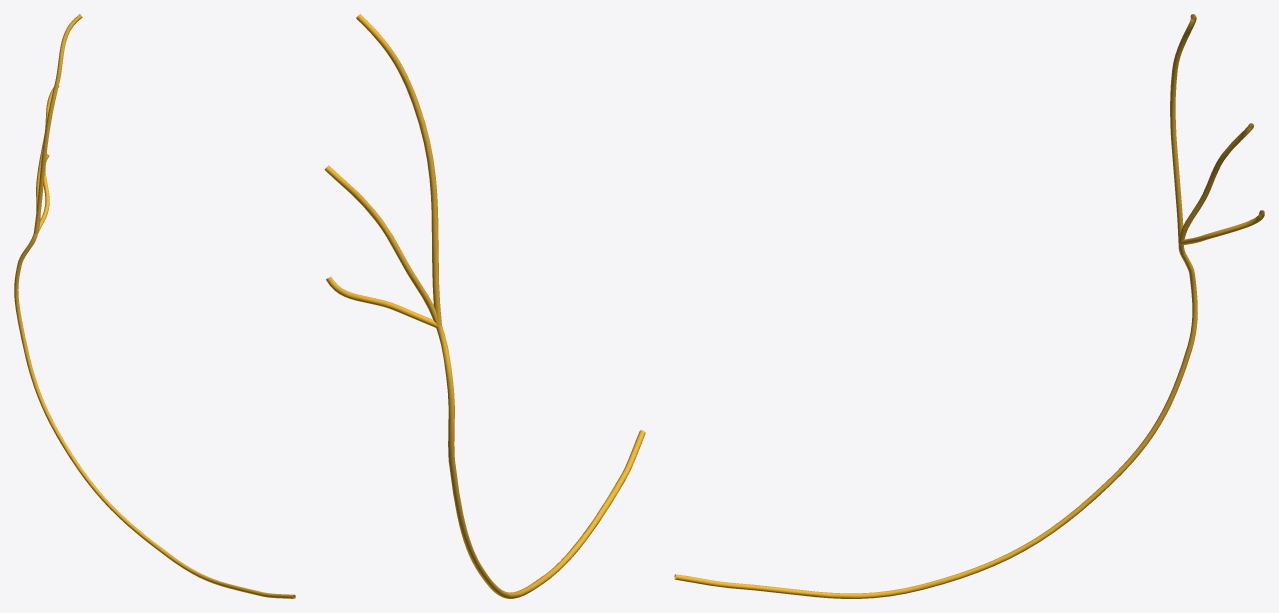
Rendered from nervoso-pudendal-nerve-r.glb.
The picture shows the model from 3 angles, left to right: view 1: azimuth 30°, elevation 25°; view 2: azimuth 150°, elevation 25°; view 3: azimuth 270°, elevation 25°; orthographic projection. The views are drawn at different scales.
Parts seen in each view (by area): view 1: Pudendal nerve.r; view 2: Pudendal nerve.r; view 3: Pudendal nerve.r.
Part boxes in pixels (left/top/right/bottom): Pudendal nerve.r: left=14, top=14, right=295, bottom=598; Pudendal nerve.r: left=324, top=14, right=645, bottom=598; Pudendal nerve.r: left=674, top=14, right=1264, bottom=598.
Bounding box in the file's own units: 0.0203 × 0.1162 × 0.105.
